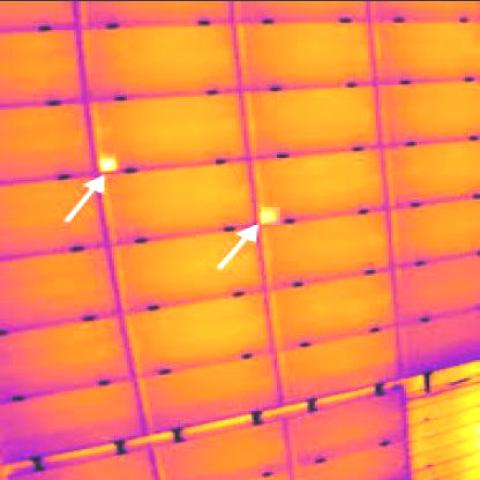fault: (261, 207, 280, 225), (100, 153, 116, 172)
